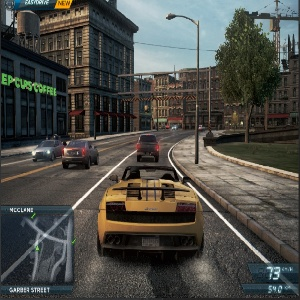ad: (1, 75, 57, 96)
building: (38, 8, 134, 132), (135, 72, 296, 126)
lamp post: (165, 13, 203, 167)
tree: (216, 8, 278, 145)
vehicle: (61, 139, 100, 169), (31, 140, 67, 162), (137, 133, 160, 161), (170, 125, 178, 130)
